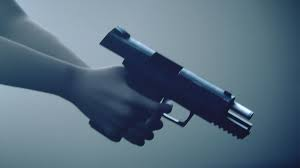gun: (88, 25, 255, 150)
